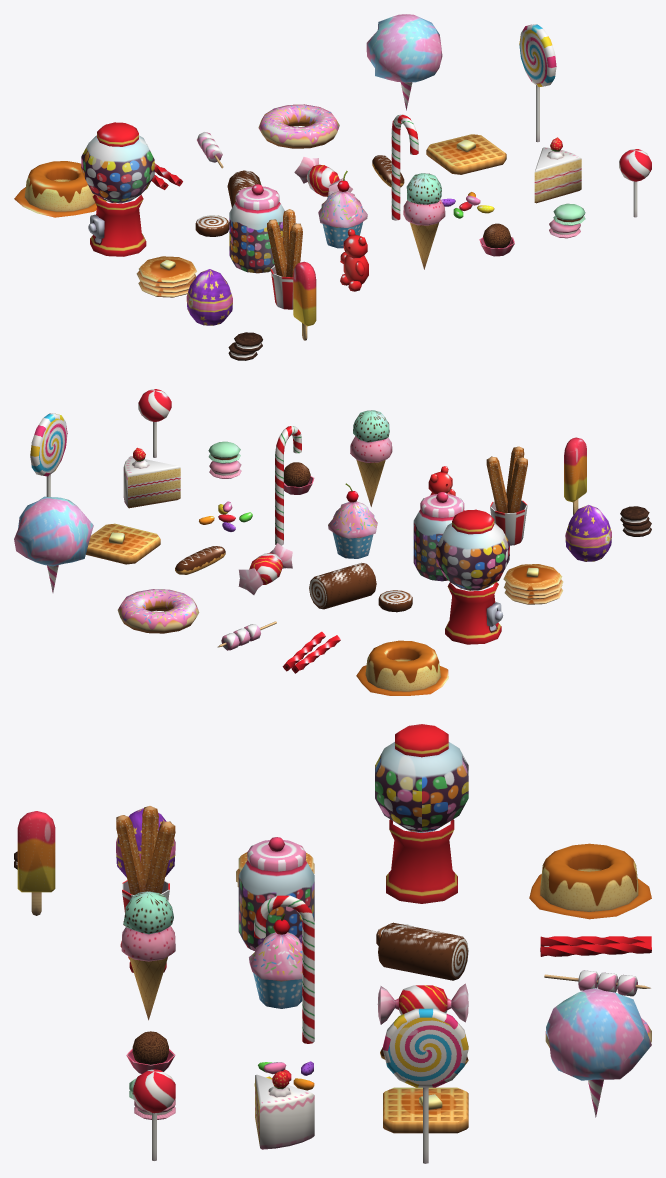
File: sweets_pack.glb
The picture shows the model from 3 angles, top to bottom: view 1: azimuth 30°, elevation 25°; view 2: azimuth 150°, elevation 25°; view 3: azimuth 270°, elevation 25°; orthographic projection. The views are drawn at different scales.
Parts seen in each view (by area): view 1: GumballMachine, CottonCandy, CandyJar, Pudding, Donut, IceCreamCone, Churros, CakeSlice, Waffle, ChocolateEgg, Cupcake, SwirlLollipop (+13 smaller); view 2: GumballMachine, CottonCandy, Pudding, Donut, SwissRoll, Churros, CandyJar, CakeSlice, IceCreamCone, Cupcake, Waffle, ChocolateEgg (+14 smaller); view 3: GumballMachine, CottonCandy, Pudding, SwirlLollipop, CandyJar, IceCreamCone, SwissRoll, Churros, CakeSlice, Waffle, Cupcake, Popsicle (+8 smaller).
Part boxes in pixels (bbox=[...]): GumballMachine: bbox=[81, 122, 154, 256]; CottonCandy: bbox=[366, 14, 442, 110]; CandyJar: bbox=[229, 184, 284, 273]; Pudding: bbox=[14, 161, 106, 217]; Donut: bbox=[258, 104, 339, 148]; IceCreamCone: bbox=[403, 173, 445, 269]; Churros: bbox=[267, 209, 302, 309]; CakeSlice: bbox=[534, 137, 581, 203]; Waffle: bbox=[426, 134, 506, 174]; ChocolateEgg: bbox=[186, 269, 232, 325]; Cupcake: bbox=[318, 170, 367, 248]; SwirlLollipop: bbox=[519, 24, 556, 142]; GumballMachine: bbox=[436, 509, 509, 644]; CottonCandy: bbox=[14, 496, 93, 592]; Pudding: bbox=[356, 640, 448, 695]; Donut: bbox=[117, 589, 199, 633]; SwissRoll: bbox=[309, 562, 412, 612]; Churros: bbox=[486, 446, 527, 545]; CandyJar: bbox=[413, 492, 464, 581]; CakeSlice: bbox=[123, 447, 180, 508]; IceCreamCone: bbox=[350, 410, 392, 506]; Cupcake: bbox=[328, 483, 377, 558]; Waffle: bbox=[86, 523, 160, 564]; ChocolateEgg: bbox=[565, 504, 611, 561]; GumballMachine: bbox=[375, 724, 468, 903]; CottonCandy: bbox=[546, 988, 651, 1117]; Pudding: bbox=[529, 843, 651, 919]; SwirlLollipop: bbox=[383, 1008, 468, 1163]; CandyJar: bbox=[238, 837, 314, 950]; IceCreamCone: bbox=[121, 891, 175, 1020]; SwissRoll: bbox=[376, 922, 468, 980]; Churros: bbox=[116, 806, 175, 912]; CakeSlice: bbox=[255, 1071, 314, 1149]; Waffle: bbox=[383, 1087, 468, 1133]; Cupcake: bbox=[249, 913, 302, 1008]; Popsicle: bbox=[17, 811, 55, 915].
Bounding box in the file's own units: 1.42 × 0.344 × 1.26.
Materials: 3 (3 with a texture image).
